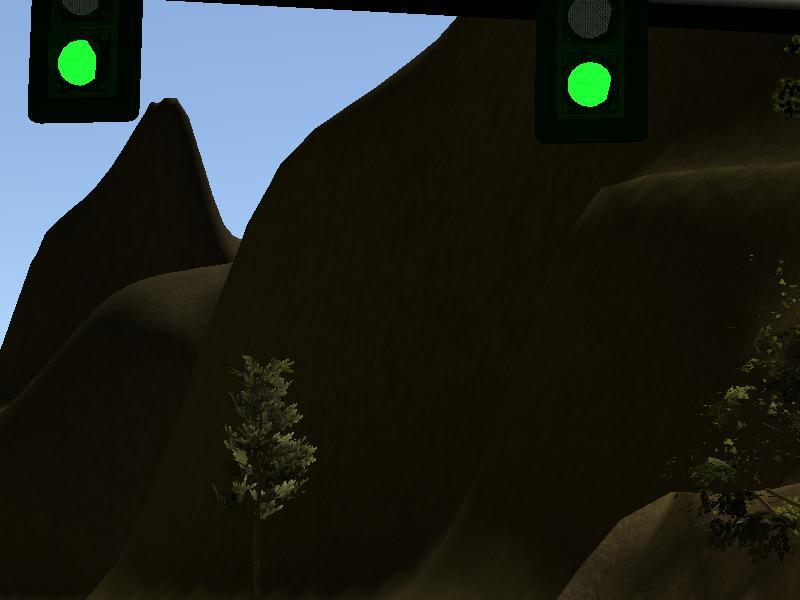Green: (533, 1, 649, 142), (28, 1, 142, 121)
